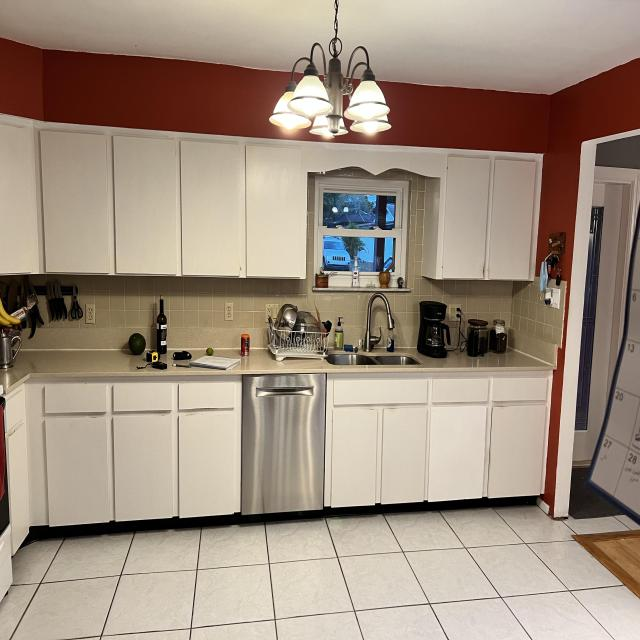Appliance_Dishwasher: (241, 374, 327, 516)
Appliance_Sink: (326, 294, 422, 366)
Cabinet_Flat: (0, 114, 543, 282), (18, 380, 243, 530), (324, 376, 552, 508)
Countertop_Solid_Surface: (212, 348, 547, 372), (15, 350, 219, 372)
